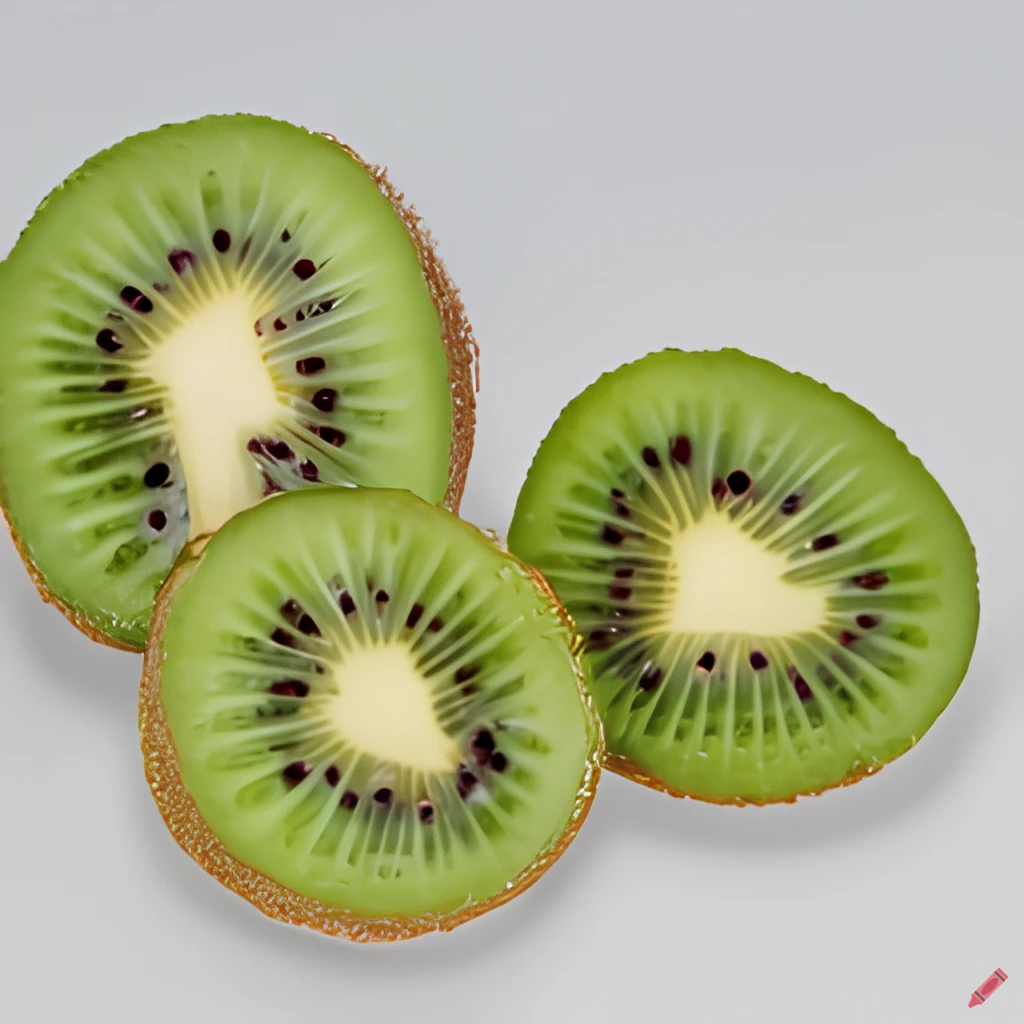Kiwi: (499, 330, 980, 806)
